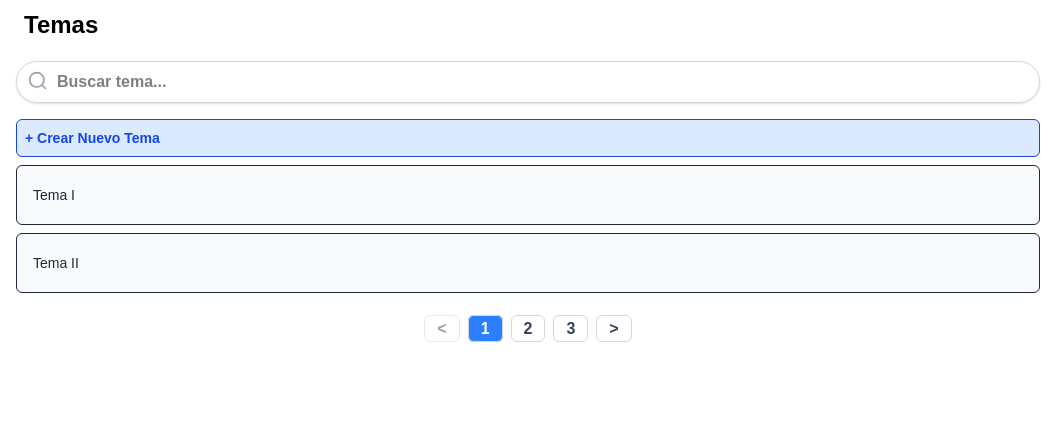
SubjectPage › resetea la página a 1 si page !== 1 al crear un tema
# Abrir formulario
Step 1. Click the button "+ Crear Nuevo Tema" → (92, 138), box [16, 119, 1040, 157]
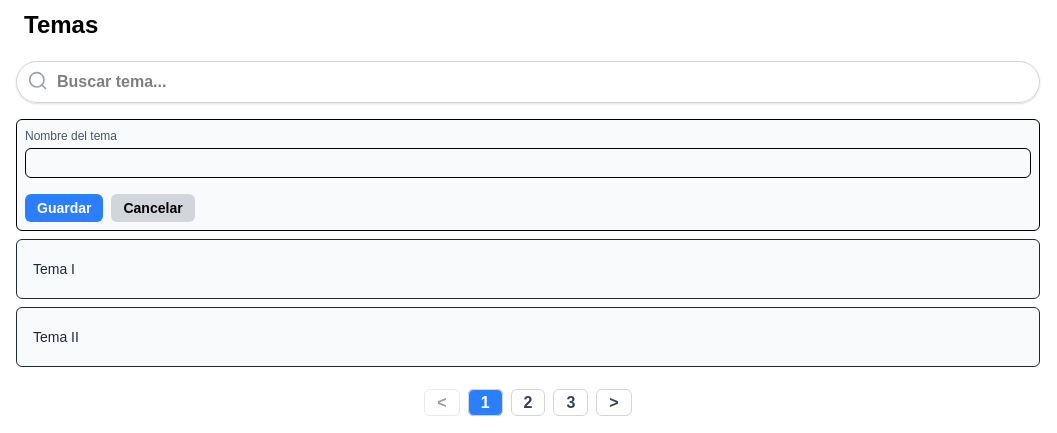
Step 2. Type "Tema III" into the field labelled "Nombre del tema" → (528, 163), box [25, 148, 1031, 178]
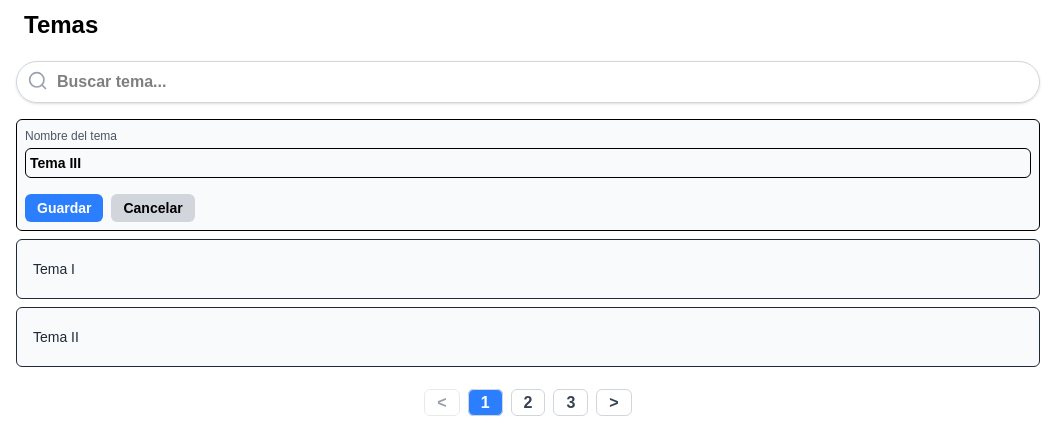
Step 3. Click the button "Guardar" → (64, 208), box [25, 194, 104, 222]
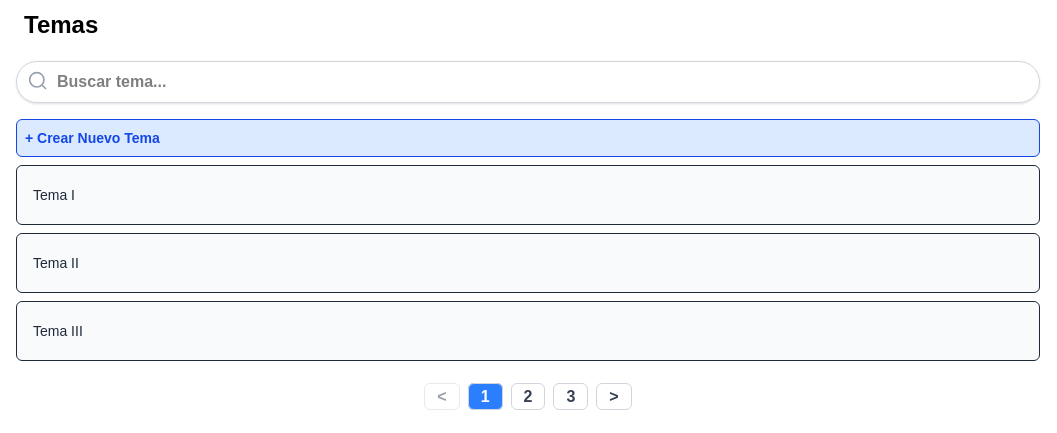
Expected: the text "Tema III" is shown, [33, 323, 83, 339]
